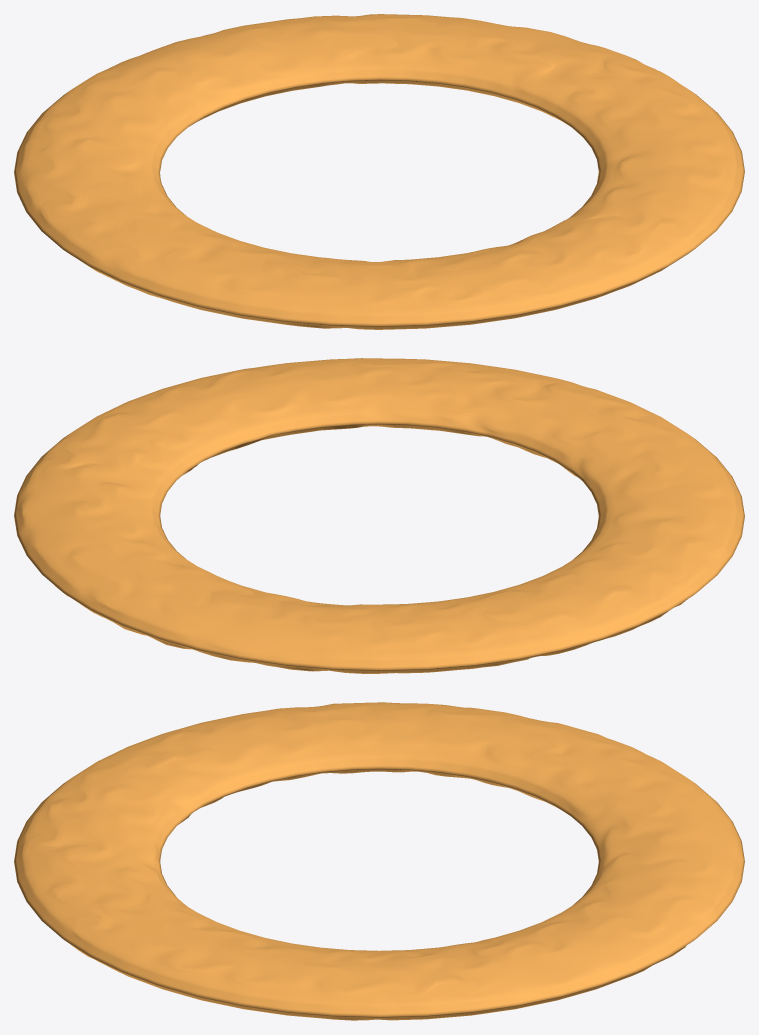
File: amuletring2.glb
The picture shows the model from 3 angles, top to bottom: view 1: azimuth 30°, elevation 25°; view 2: azimuth 150°, elevation 25°; view 3: azimuth 270°, elevation 25°; orthographic projection.
Visible parts, largest first — view 1: Torus; view 2: Torus; view 3: Torus.
Part boxes in pixels (bbox=[...]): Torus: bbox=[14, 14, 744, 329]; Torus: bbox=[14, 358, 744, 673]; Torus: bbox=[14, 702, 744, 1020].
Bounding box in the file's own units: 2.83 × 0.1422 × 2.82.
1 material, 1 textured.
